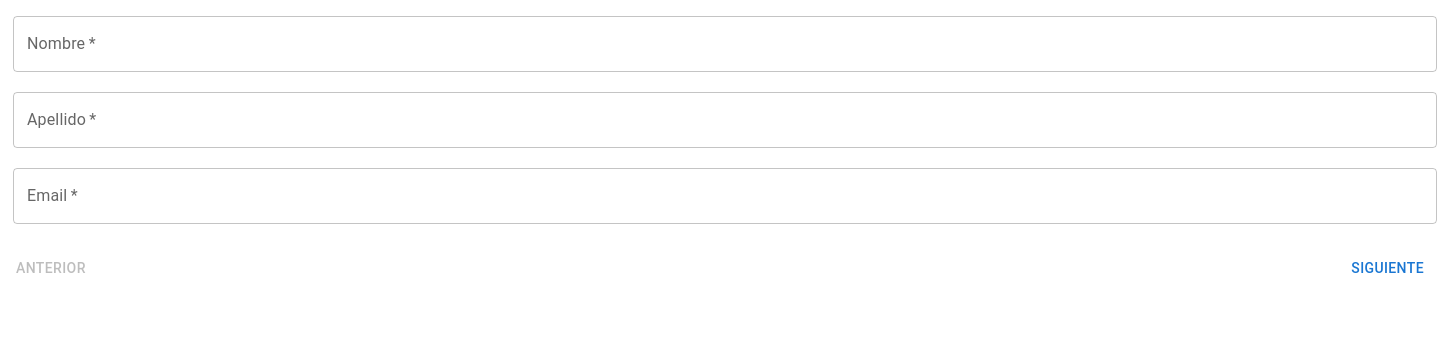
FormPersonalData.spec.tsx › when entering wrong values › should render inputs error when doesn't fill form
What coordinates should you click on to do the following:
click the button "Siguiente"
I would click on:
 (1388, 268)
Its box is [1343,250,1432,286].
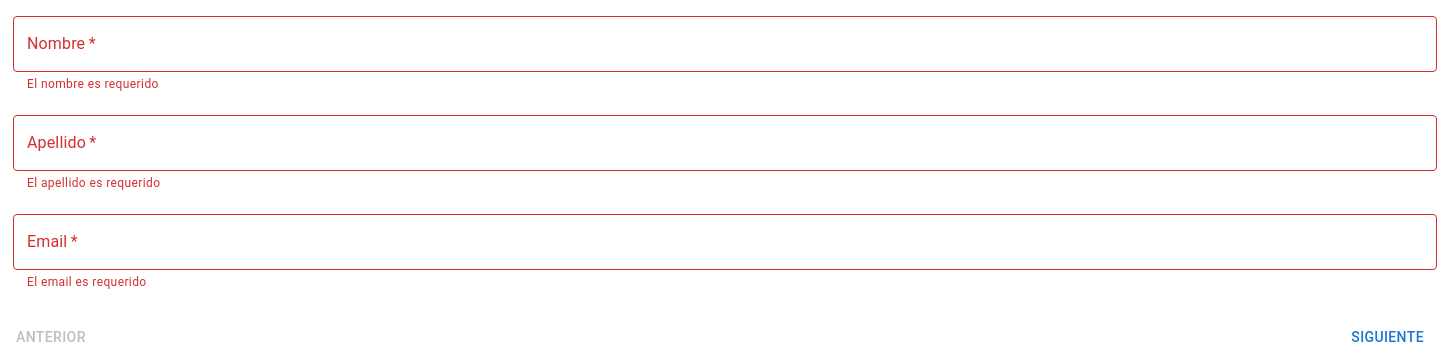
Expected: the text "El nombre es requerido" is shown, [27,77,159,91]
Expected: the text "El apellido es requerido" is shown, [27,176,160,190]
Expected: the text "El email es requerido" is shown, [27,275,147,289]
